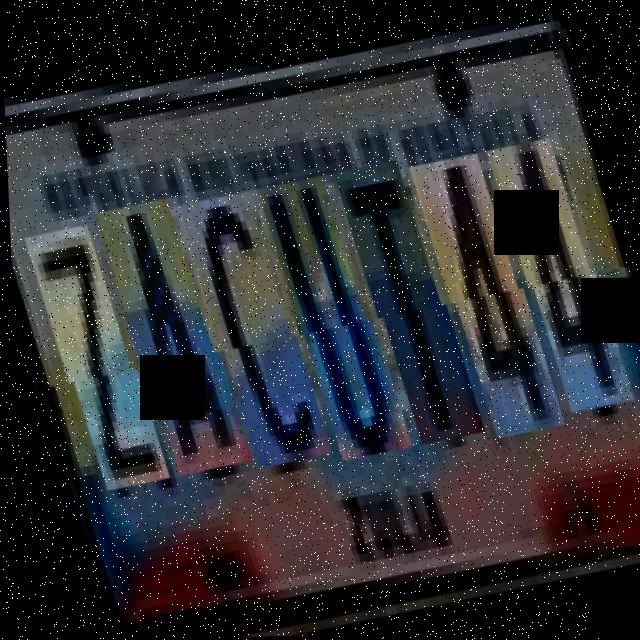4: (409, 145, 558, 441), (487, 130, 627, 415)
A: (95, 193, 246, 479)
C: (174, 185, 325, 473)
T: (334, 153, 477, 447)
U: (257, 167, 405, 464)
Z: (25, 218, 163, 495)
